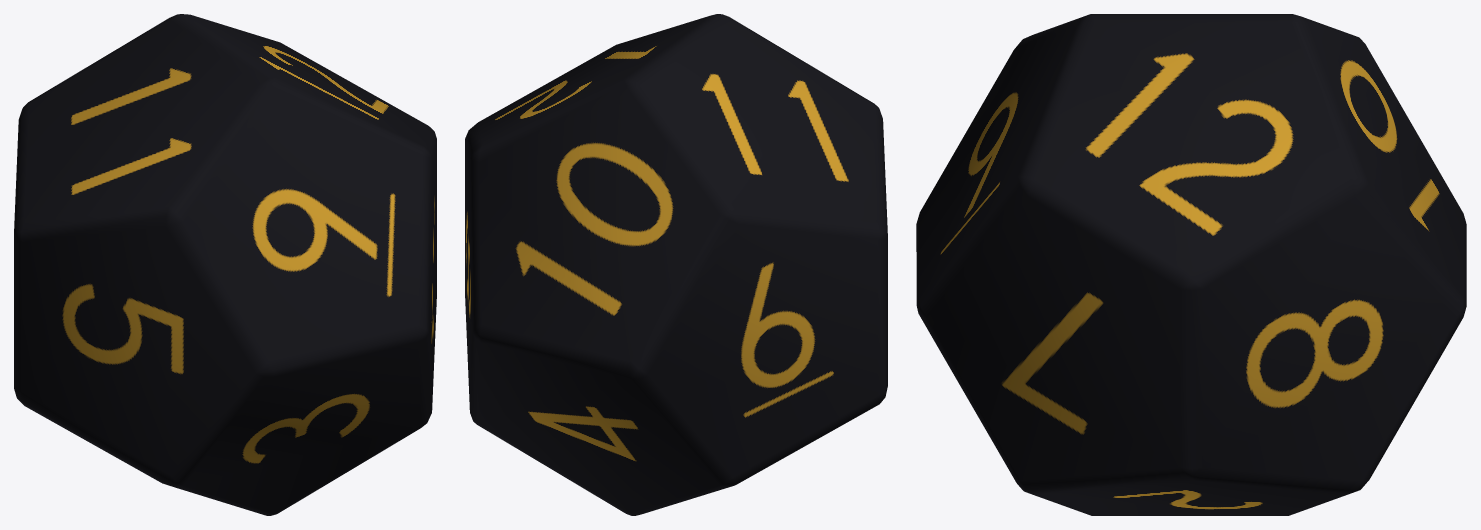
3 views of the same model, side by side, from view 1: azimuth 30°, elevation 25°; view 2: azimuth 150°, elevation 25°; view 3: azimuth 270°, elevation 25° (orthographic). The views are drawn at different scales.
Parts seen in each view (by area): view 1: d12; view 2: d12; view 3: d12.
Boxes of the visible parts, box(x1,y1,x2,y2) form: d12: box(14, 14, 436, 515); d12: box(465, 14, 887, 515); d12: box(916, 14, 1466, 515).
Size of the model in its own units: 1.23 by 1.23 by 1.23.
Materials: 1 (1 with a texture image).
